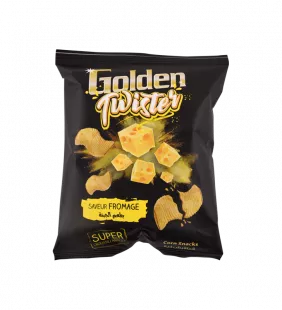GOLDEN TWISTER: (45, 44, 235, 267)
